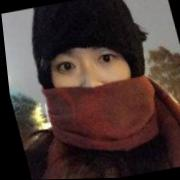WRONG: (33, 31, 155, 146)
